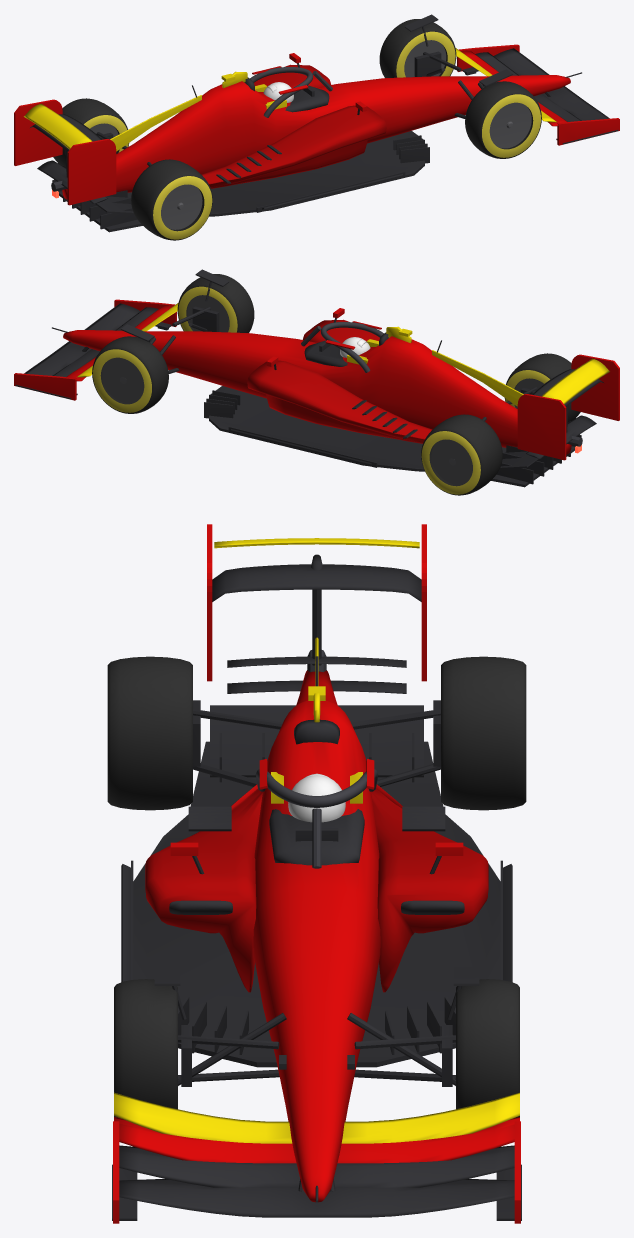
File: f1_car.glb
3 views of the same model, one above another, from view 1: azimuth 30°, elevation 25°; view 2: azimuth 150°, elevation 25°; view 3: azimuth 270°, elevation 25° (orthographic). The views are drawn at different scales.
Parts seen in each view (by area): view 1: car_body, wheel_RR, wheel_FR, wheel_FL, wheel_RL, drs_flap; view 2: car_body, wheel_RL, wheel_FL, wheel_FR, wheel_RR, drs_flap; view 3: car_body, wheel_RL, wheel_RR, wheel_FL, wheel_FR, drs_flap.
Part boxes in pixels (left/top/right/bottom): car_body: left=14, top=14, right=619, bottom=232; wheel_RR: left=131, top=159, right=212, bottom=240; wheel_FR: left=465, top=81, right=541, bottom=158; wheel_FL: left=379, top=19, right=456, bottom=77; wheel_RL: left=53, top=98, right=129, bottom=167; drs_flap: left=24, top=103, right=92, bottom=149; car_body: left=14, top=269, right=619, bottom=487; wheel_RL: left=421, top=414, right=502, bottom=495; wheel_FL: left=92, top=336, right=168, bottom=413; wheel_FR: left=177, top=274, right=254, bottom=332; wheel_RR: left=504, top=353, right=580, bottom=422; drs_flap: left=541, top=358, right=609, bottom=404; car_body: left=112, top=524, right=521, bottom=1223; wheel_RL: left=441, top=656, right=526, bottom=810; wheel_RR: left=107, top=656, right=192, bottom=810; wheel_FL: left=456, top=979, right=519, bottom=1117; wheel_FR: left=114, top=979, right=177, bottom=1117; drs_flap: left=214, top=538, right=419, bottom=548.
Bounding box in the file's own units: 5.84 × 1.1 × 1.96.
